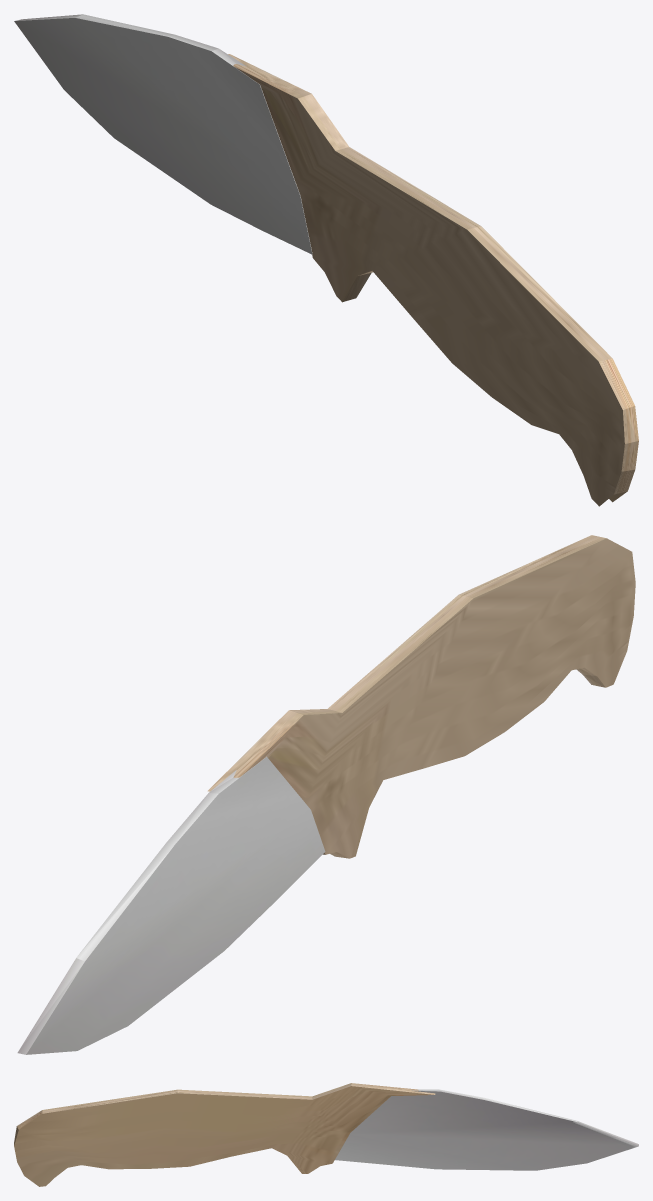
Rendered from nifes.obj.
3 views of the same model, one above another, from view 1: azimuth 30°, elevation 25°; view 2: azimuth 150°, elevation 25°; view 3: azimuth 270°, elevation 25° (orthographic). The views are drawn at different scales.
Parts seen in each view (by area): view 1: 立方体, nife_立方体.001; view 2: 立方体, nife_立方体.001; view 3: 立方体, nife_立方体.001.
Boxes of the visible parts, x1,y1,x2,y2 form: 立方体: (228,54,638,506); nife_立方体.001: (14,14,312,254); 立方体: (207,535,635,858); nife_立方体.001: (17,756,325,1054); 立方体: (14,1083,435,1186); nife_立方体.001: (335,1089,638,1170).
Bounding box in the file's own units: 0.1245 × 0.7737 × 4.37.
Materials: 2 (2 with a texture image).
